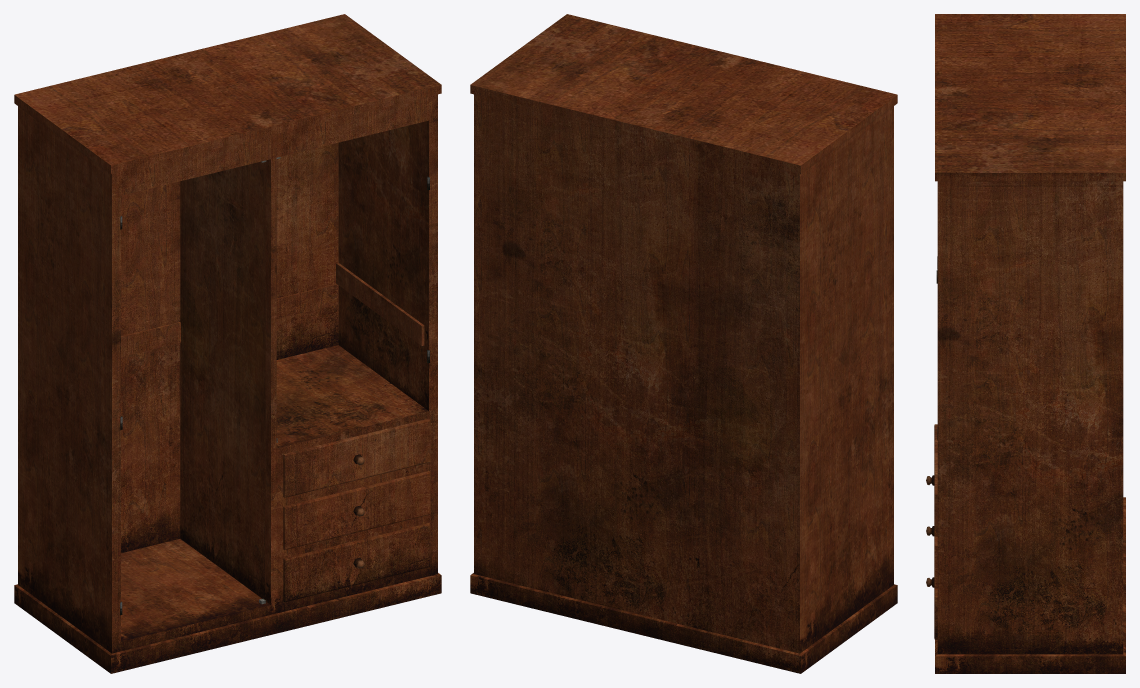
The model's file is closetCarcass01_a.FBX.
3 views of the same model, side by side, from view 1: azimuth 30°, elevation 25°; view 2: azimuth 150°, elevation 25°; view 3: azimuth 270°, elevation 25° (orthographic).
Visible parts, largest first — view 1: SM_ClosetCarcass01; view 2: SM_ClosetCarcass01; view 3: SM_ClosetCarcass01.
Part boxes in pixels (left/top/right/bottom): SM_ClosetCarcass01: left=14, top=14, right=441, bottom=673; SM_ClosetCarcass01: left=470, top=14, right=897, bottom=673; SM_ClosetCarcass01: left=926, top=14, right=1125, bottom=673.
Bounding box in the file's own units: 137 × 202 × 72.86.
1 material, 1 textured.
